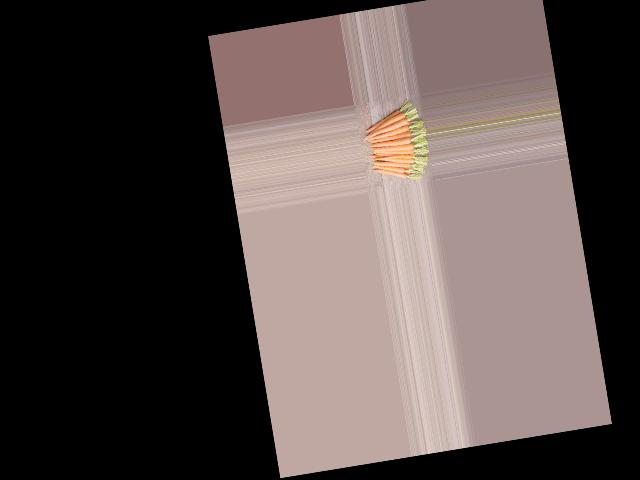carrot: (374, 171, 408, 182)
